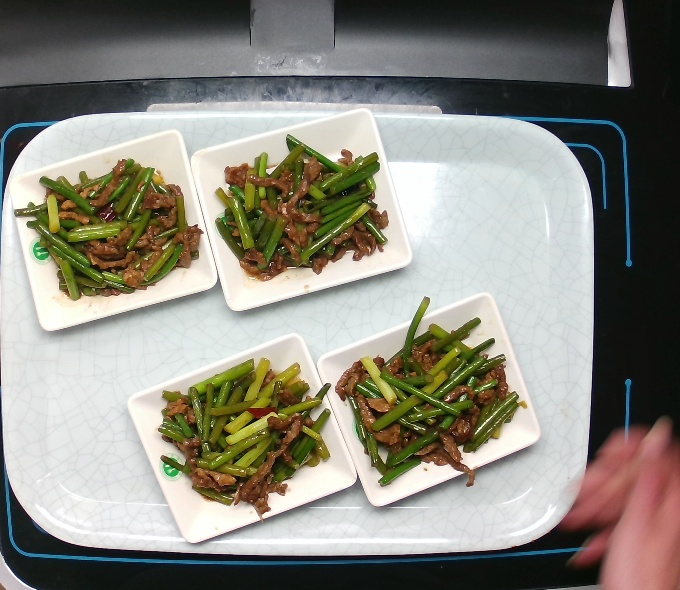wcq-SuanMiaoNiuRou: (333, 310, 528, 490), (153, 351, 337, 523), (15, 155, 212, 303), (215, 131, 398, 280)
